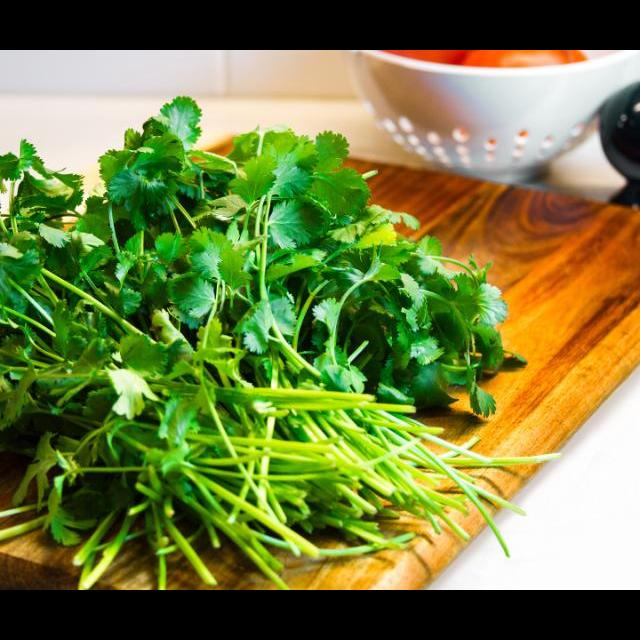cilantro: (0, 94, 561, 587)
